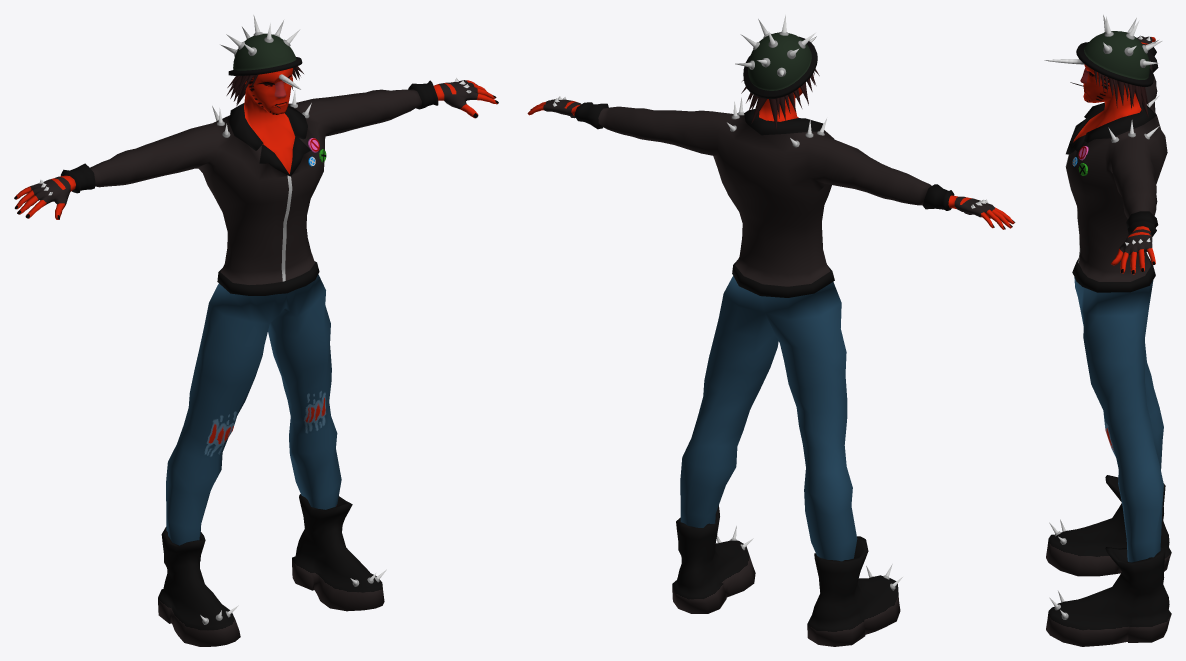
Rendered from SPIKE5.fbx.
3 views of the same model, side by side, from view 1: azimuth 30°, elevation 25°; view 2: azimuth 150°, elevation 25°; view 3: azimuth 270°, elevation 25° (orthographic).
Parts seen in each view (by area): view 1: Cylinder.003, Plane, Sphere; view 2: Cylinder.003, Plane, Sphere, Cone.022; view 3: Cylinder.003, Plane, Sphere, Cone.022, Cone.014, Cone.026, Cone.017.
Boxes of the visible parts, x1,y1,x2,y2 form: Cylinder.003: [14, 68, 498, 545]; Plane: [158, 494, 384, 646]; Sphere: [228, 33, 302, 75]; Cylinder.003: [527, 36, 1015, 561]; Plane: [672, 505, 900, 646]; Sphere: [743, 32, 817, 98]; Cone.022: [741, 69, 819, 129]; Cylinder.003: [1044, 35, 1167, 562]; Plane: [1046, 475, 1171, 646]; Sphere: [1076, 31, 1154, 86]; Cone.022: [1094, 70, 1148, 117]; Cone.014: [1103, 15, 1158, 67]; Cone.026: [1049, 519, 1068, 619]; Cone.017: [1108, 95, 1159, 142].
Size of the model in its own units: 267 by 314 by 62.06.
Materials: 1 (1 with a texture image).
